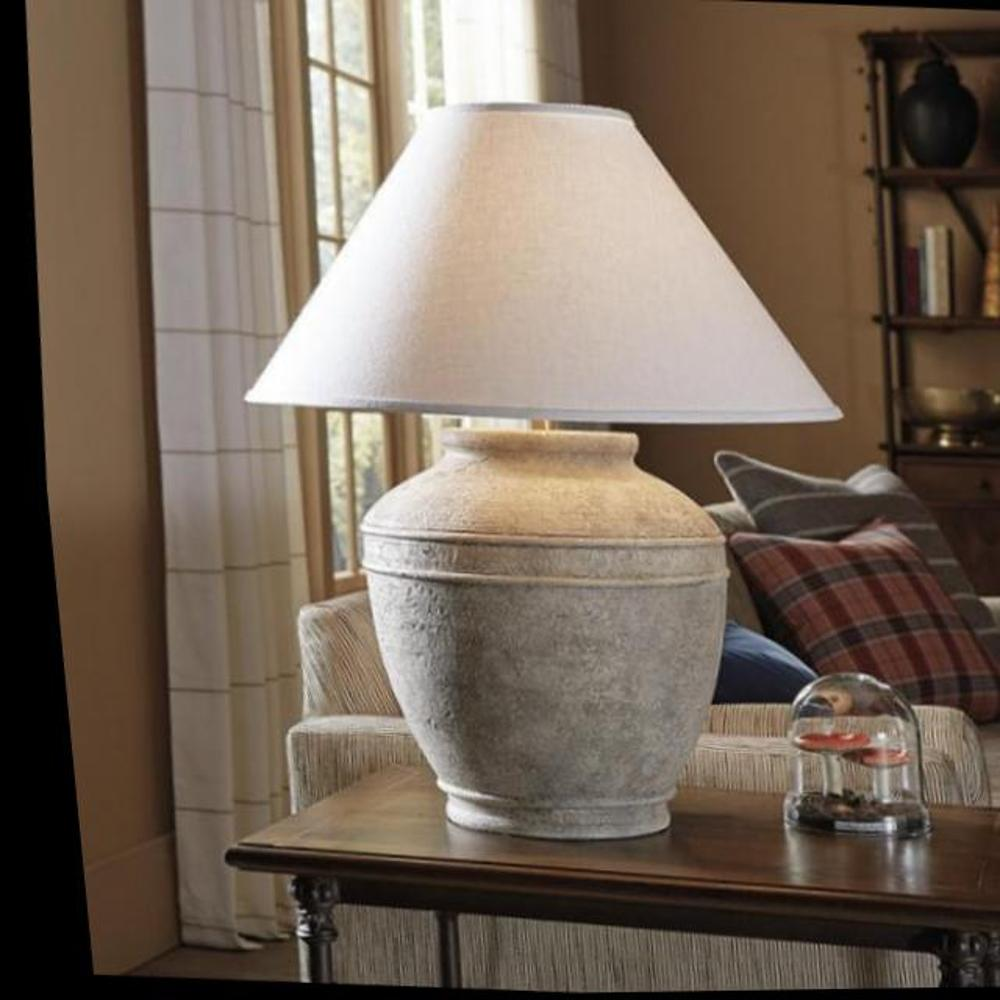shelf: (196, 46, 876, 856)
